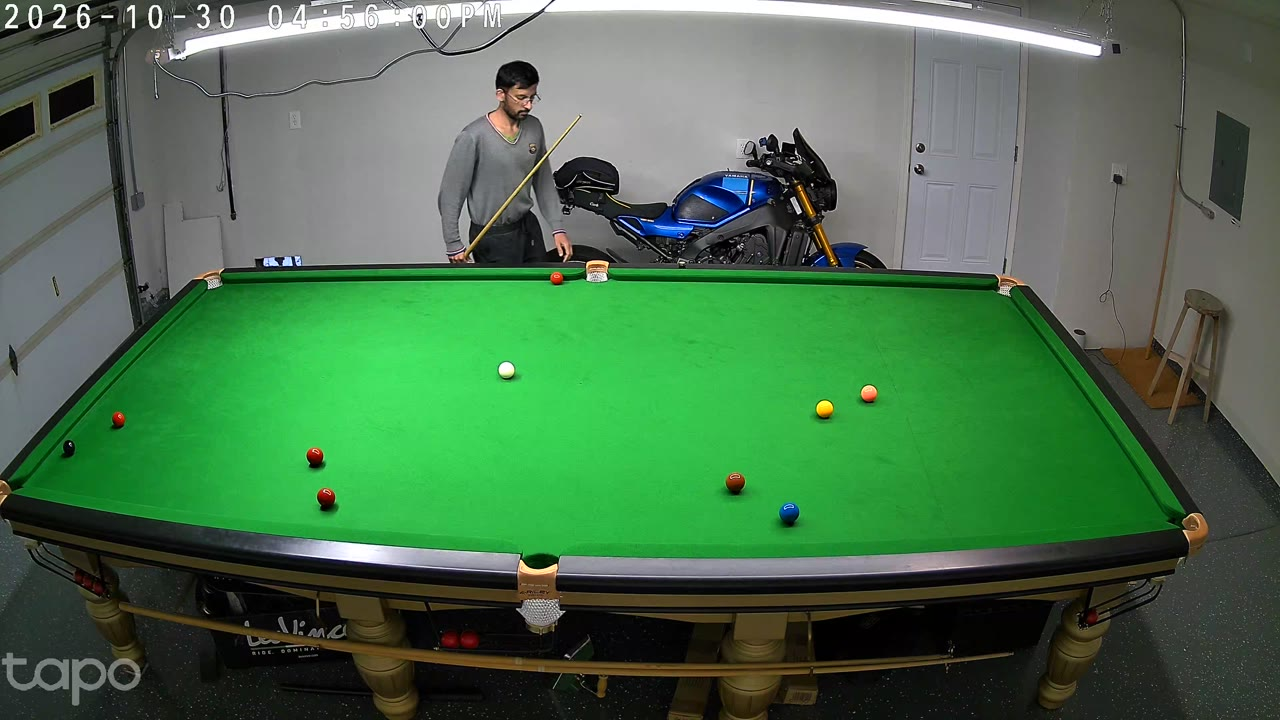black: (62, 438, 76, 459)
blue: (779, 499, 800, 528)
brown: (725, 471, 745, 497)
pink: (860, 384, 876, 404)
red: (317, 485, 336, 513), (306, 445, 324, 470), (112, 410, 125, 430), (551, 271, 563, 288)
white: (498, 360, 515, 382)
yellow: (817, 399, 833, 421)
